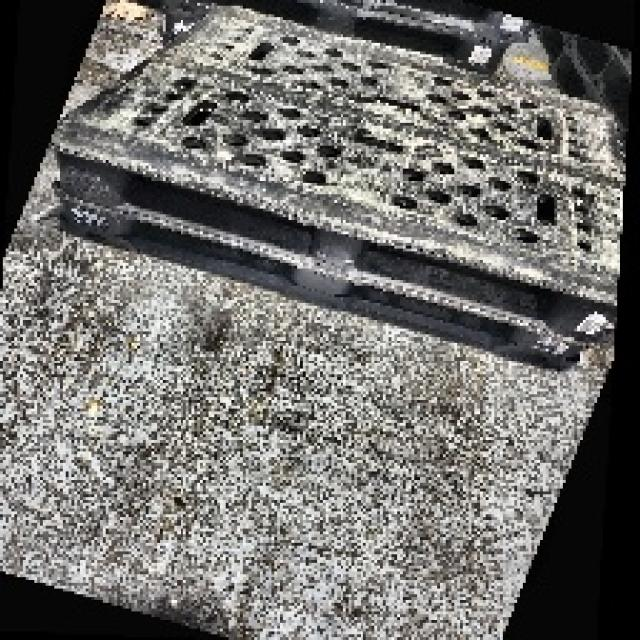igps: (45, 0, 631, 358), (43, 180, 596, 380)
